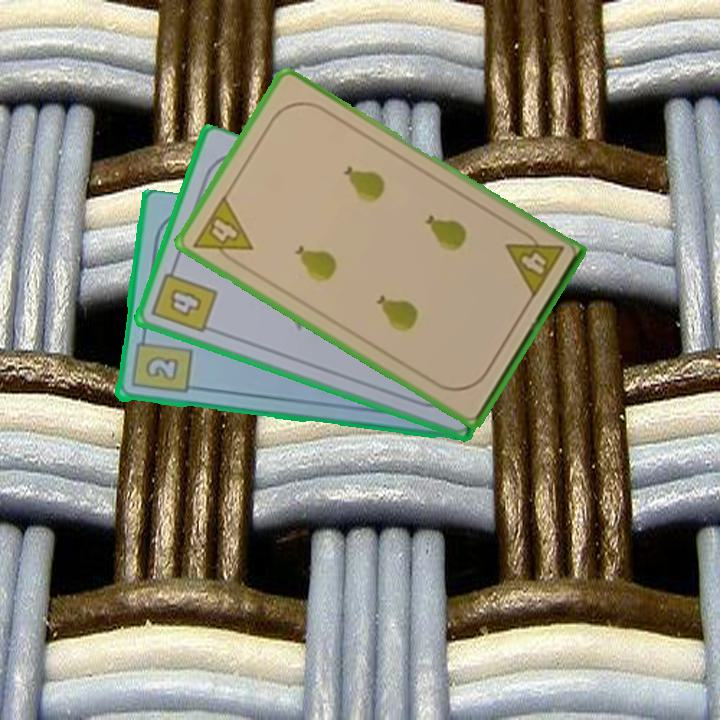2b: (127, 330, 194, 397)
4b: (148, 260, 221, 337)
4p: (189, 192, 256, 271), (502, 224, 567, 301)
